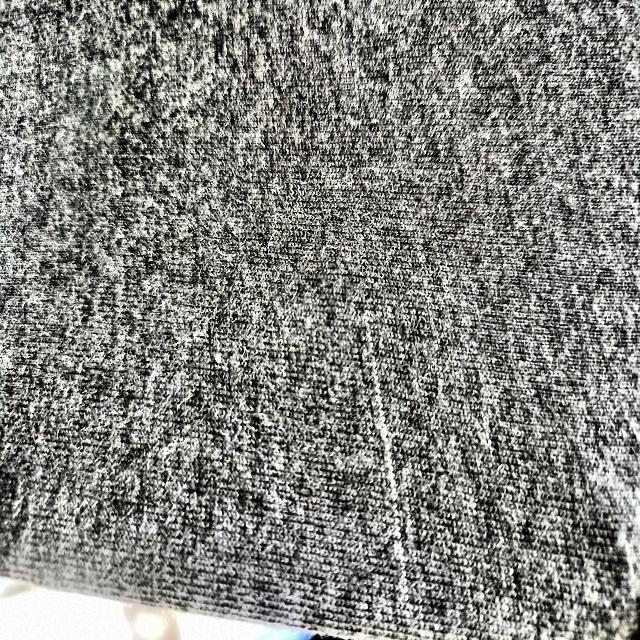Hole: (210, 346, 228, 370)
Stitch: (356, 321, 428, 640)
